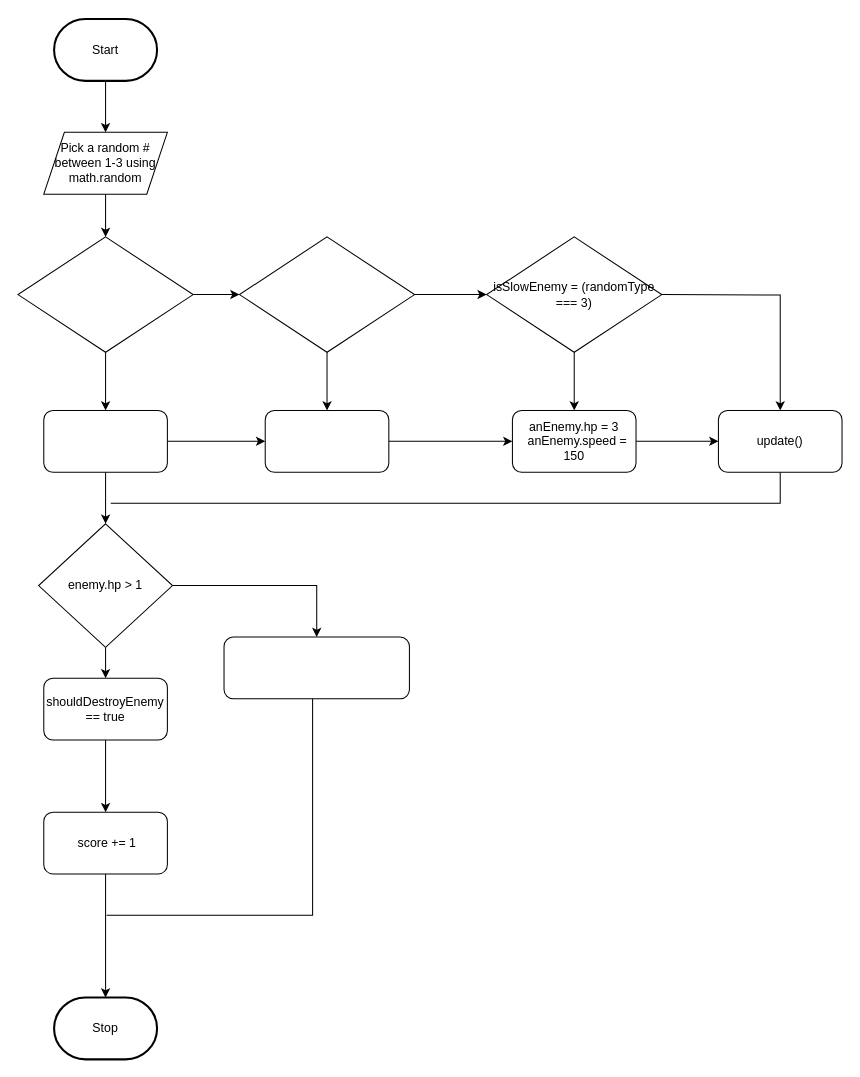
Image size: 860x1077. Some labels were removed from this diagram. The centre of each missing label's shape, as x and y in pixels:
"anEnemy.hp = 1 anEnemy.speed = 750" goes at point (105, 440).
"anEnemy.hp = 2 anEnemy.speed = 300" goes at point (326, 440).
"enemy.hp--" goes at point (316, 667).
"isFastEnemy = (randomType === 1)" goes at point (105, 294).
"isNormalEnemy = (randomType === 2)" goes at point (326, 294).
